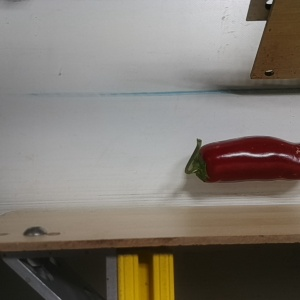Cut Point: (189, 143, 219, 183)
